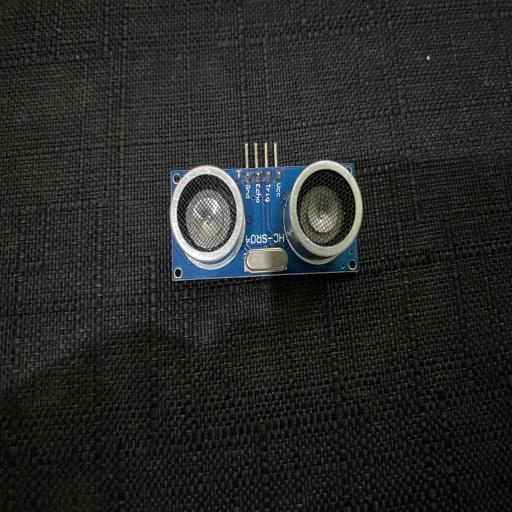Ultrasonic Sensor: (168, 142, 364, 282)
